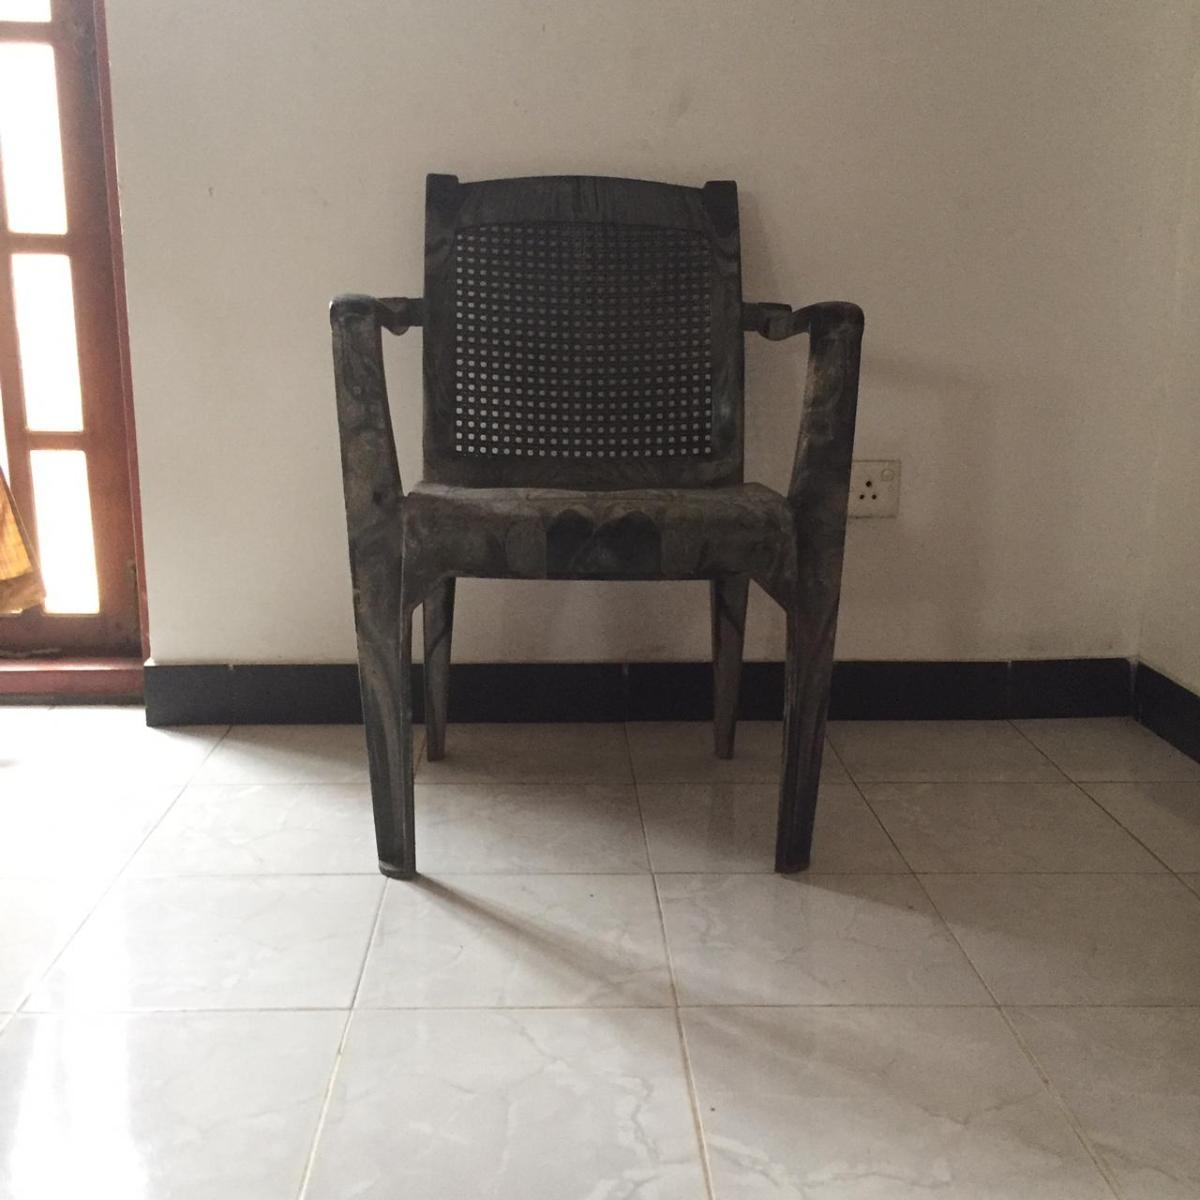Chair: (325, 170, 867, 881)
